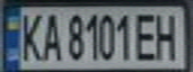0: (100, 10, 118, 61)
1: (81, 10, 100, 61), (115, 10, 133, 61)
8: (63, 10, 84, 61)
A: (36, 10, 63, 62)
E: (133, 9, 160, 62)
H: (151, 9, 184, 61)
K: (18, 9, 45, 62)
